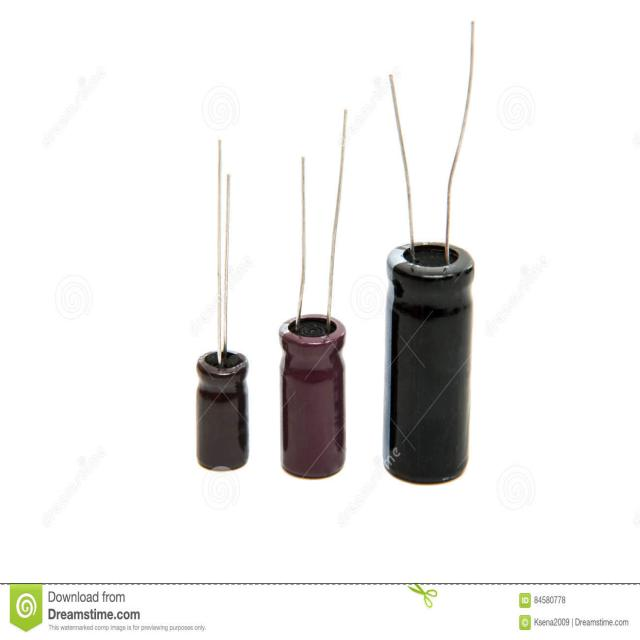Capacitor: (384, 22, 474, 483), (279, 111, 347, 479), (196, 140, 249, 470)
